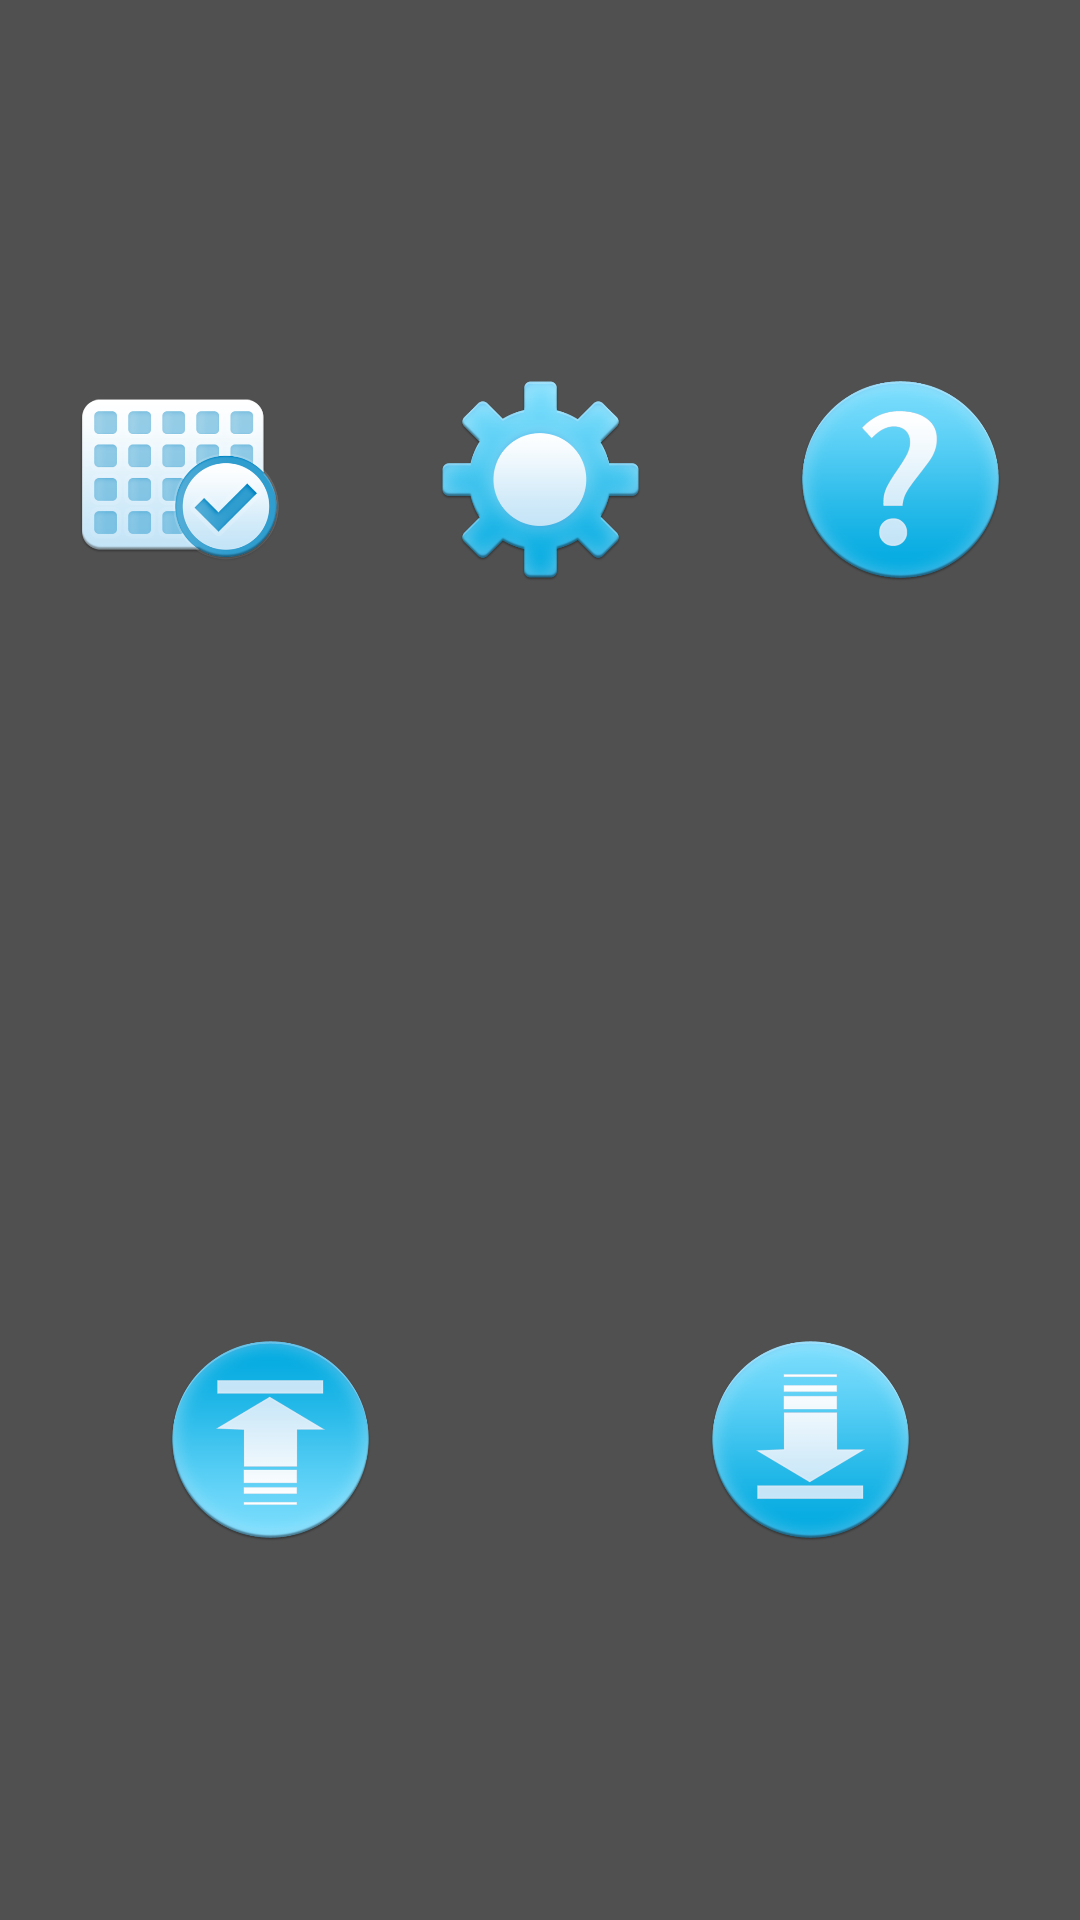

Locate icon controls on the screen. Image size 1080×1920, boxes as (x1, y1, x2, y2).
btnayuda: (802, 381, 999, 578)
btnconfiguracion: (442, 381, 639, 578)
